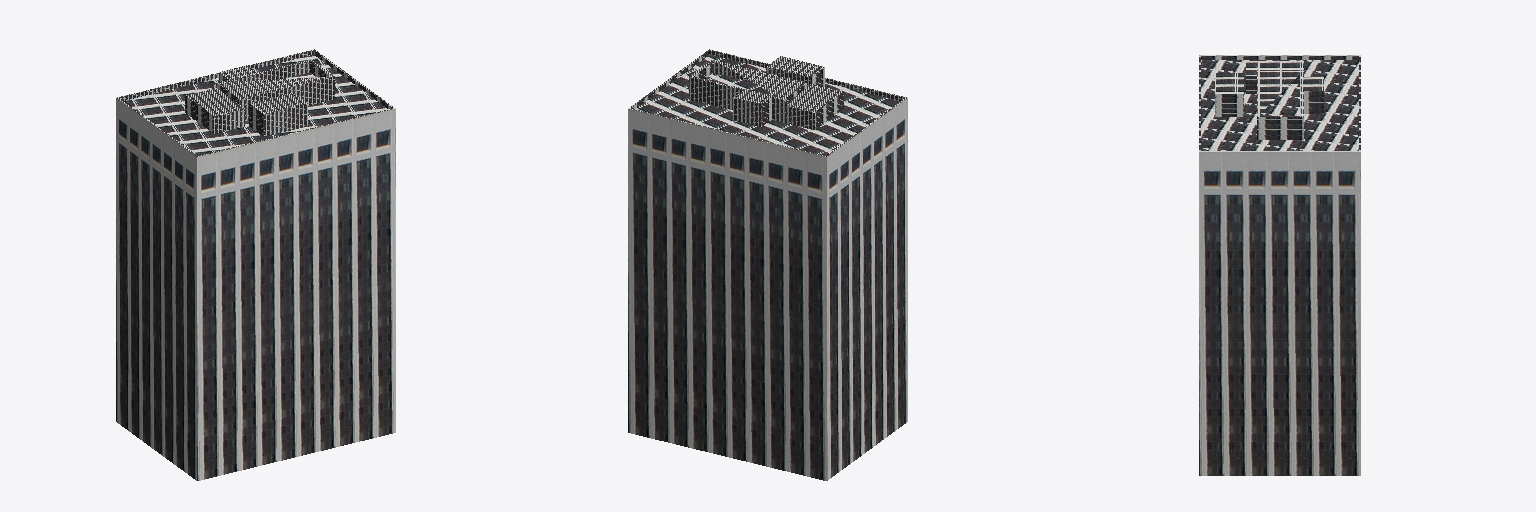
3 renders of one model, left to right at view 1: azimuth 30°, elevation 25°; view 2: azimuth 150°, elevation 25°; view 3: azimuth 270°, elevation 25°, orthographic.
Visible parts, largest first — view 1: CPL; view 2: CPL; view 3: CPL.
Part boxes in pixels (left/top/right/bottom): CPL: left=116, top=49, right=395, bottom=480; CPL: left=628, top=49, right=907, bottom=480; CPL: left=1199, top=55, right=1360, bottom=475.
Bounding box in the file's own units: 2531 × 4180 × 1789.
1 materials, 1 textured.